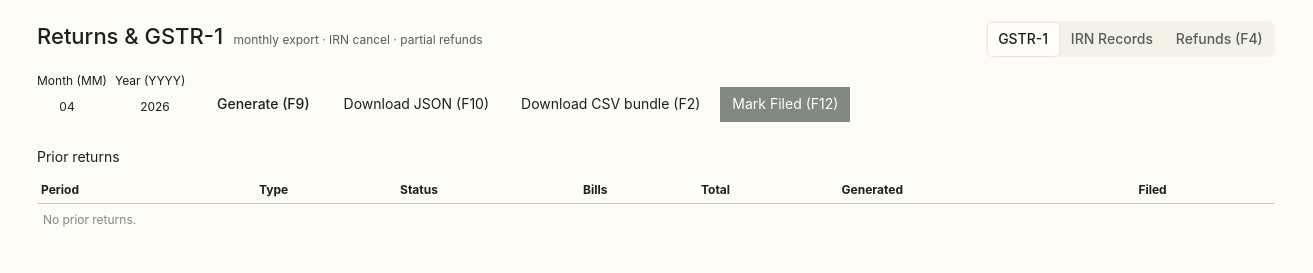
Test: ReturnsScreen · A8 refunds-mode (ADR 0021 step 7) › clicking the Refunds tab also flips mode (parity with F4)
The image size is (1313, 273).
Click the tab with test id "ret-mode-refunds": (1219, 39) [1165, 23, 1273, 56]
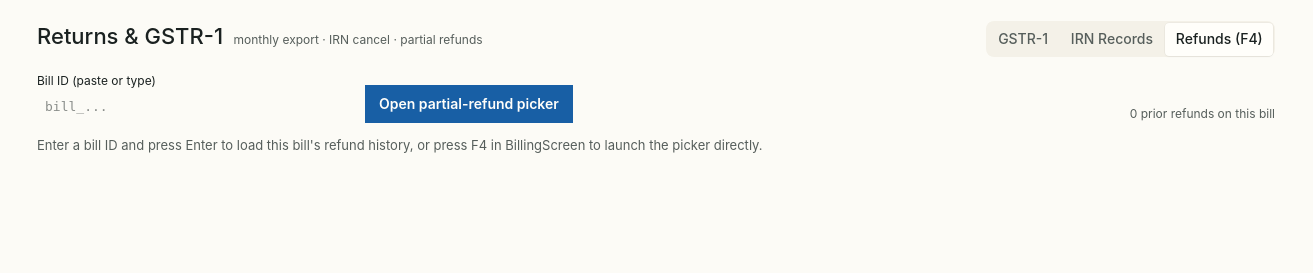
expect the element with test id "refunds-panel" is shown: met, box [37, 71, 1275, 156]
